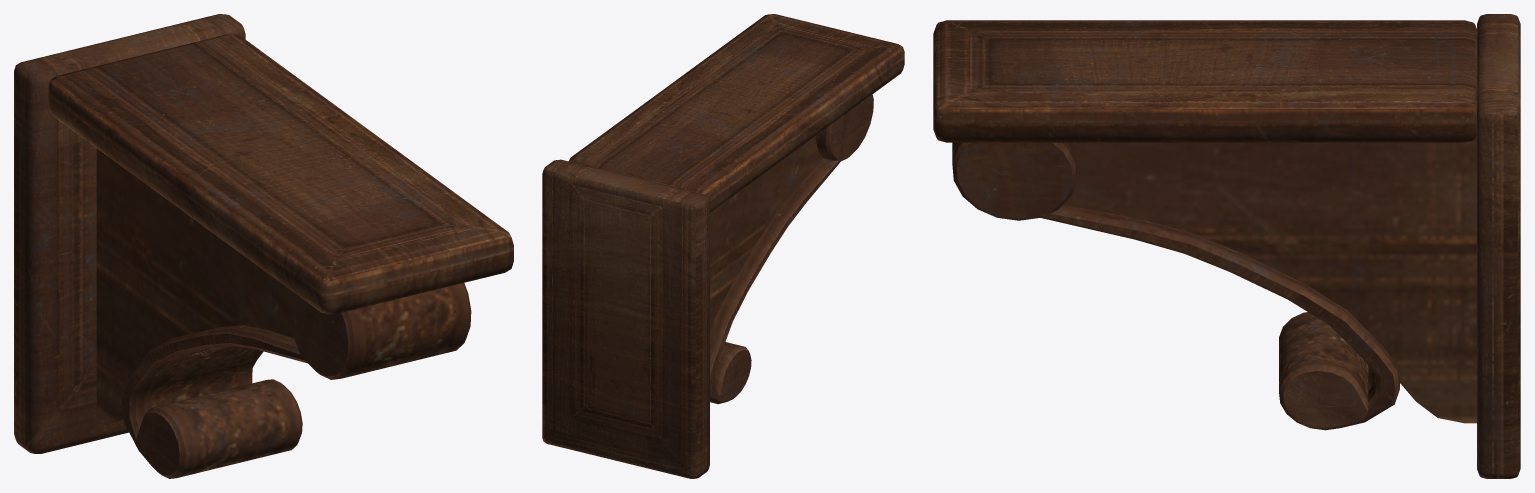
File: Prop_Wood_Colon.fbx
3 renders of one model, left to right at view 1: azimuth 30°, elevation 25°; view 2: azimuth 150°, elevation 25°; view 3: azimuth 270°, elevation 25°, orthographic. The views are drawn at different scales.
Visible parts, largest first — view 1: Prop_Wood_Colon; view 2: Prop_Wood_Colon; view 3: Prop_Wood_Colon.
Boxes of the visible parts, x1,y1,x2,y2 form: Prop_Wood_Colon: [14, 14, 513, 478]; Prop_Wood_Colon: [542, 14, 904, 478]; Prop_Wood_Colon: [933, 14, 1520, 478].
Bounding box in the file's own units: 17.06 × 28.83 × 41.52.
